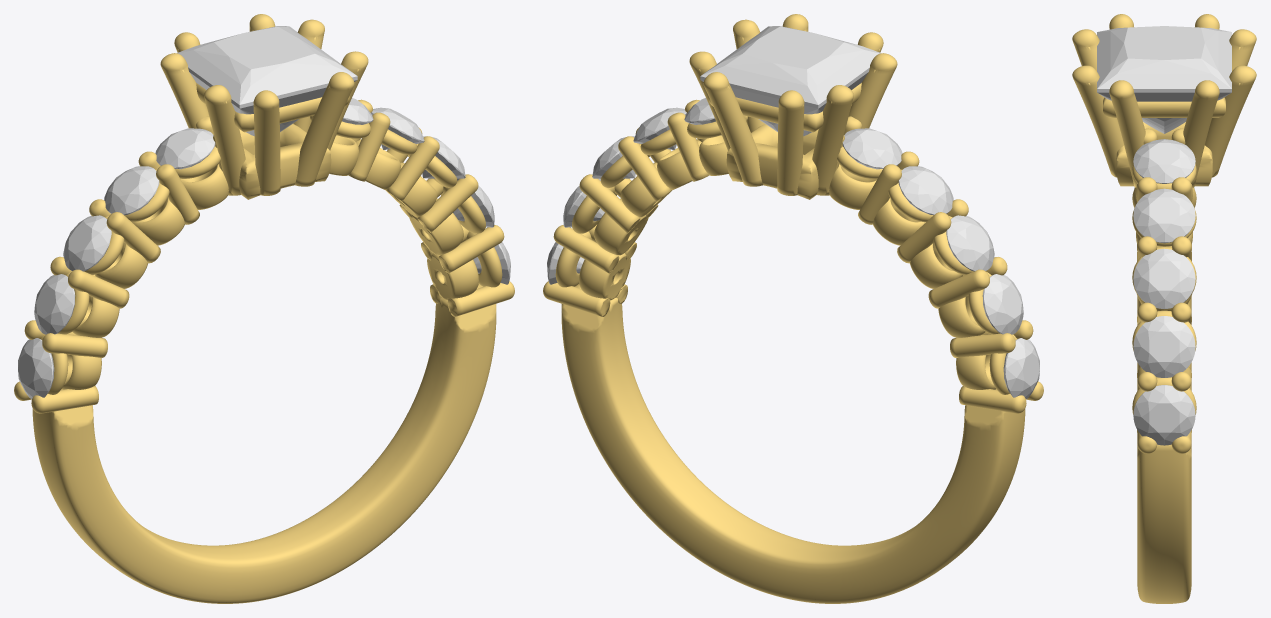
File: diamond-princess-yellowgold-8prong-straightband-11stone.glb
3 views of the same model, side by side, from view 1: azimuth 30°, elevation 25°; view 2: azimuth 150°, elevation 25°; view 3: azimuth 270°, elevation 25° (orthographic).
Visible parts, largest first — view 1: metal, stone, side.002, side.003, side.001, side.004, side, side.006, side.007; view 2: metal, stone, side.002, side.003, side.001, side.004, side, side.006, side.007; view 3: metal, stone, side.008, side.007, side.009, side.006, side.005.
Boxes of the visible parts, bbox=[...] form: metal: bbox=[14, 14, 514, 603]; stone: bbox=[177, 26, 357, 136]; side.002: bbox=[63, 215, 111, 271]; side.003: bbox=[104, 166, 159, 215]; side.001: bbox=[34, 274, 75, 334]; side.004: bbox=[155, 128, 215, 169]; side: bbox=[18, 338, 54, 398]; side.006: bbox=[371, 107, 424, 149]; side.007: bbox=[422, 136, 465, 178]; metal: bbox=[543, 14, 1043, 603]; stone: bbox=[700, 26, 880, 136]; side.002: bbox=[946, 215, 994, 271]; side.003: bbox=[898, 166, 953, 215]; side.001: bbox=[982, 274, 1023, 334]; side.004: bbox=[842, 128, 902, 169]; side: bbox=[1003, 338, 1039, 398]; side.006: bbox=[633, 107, 686, 149]; side.007: bbox=[592, 136, 635, 178]; metal: bbox=[1072, 14, 1256, 603]; stone: bbox=[1097, 26, 1231, 133]; side.008: bbox=[1133, 316, 1195, 377]; side.007: bbox=[1133, 248, 1195, 308]; side.009: bbox=[1133, 385, 1195, 445]; side.006: bbox=[1133, 188, 1195, 243]; side.005: bbox=[1133, 139, 1195, 183].
Size of the model in its own units: 22.05 by 23.85 by 7.42.
